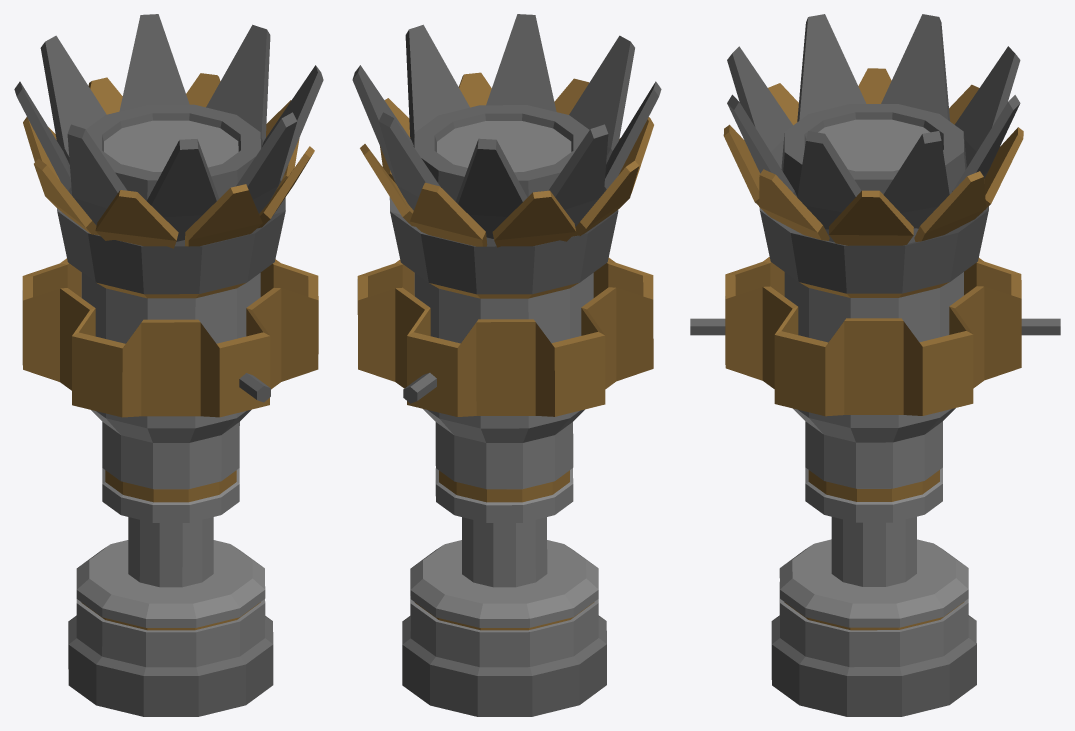
Rendered from statue.glb.
The picture shows the model from 3 angles, left to right: view 1: azimuth 30°, elevation 25°; view 2: azimuth 150°, elevation 25°; view 3: azimuth 270°, elevation 25°; orthographic projection.
Visible parts, largest first — view 1: statue; view 2: statue; view 3: statue.
Boxes of the visible parts, <box> form: statue: <box>14,14,323,716</box>; statue: <box>352,14,661,716</box>; statue: <box>690,14,1060,716</box>.
Bounding box in the file's own units: 0.9988 × 2.2 × 1.23.
